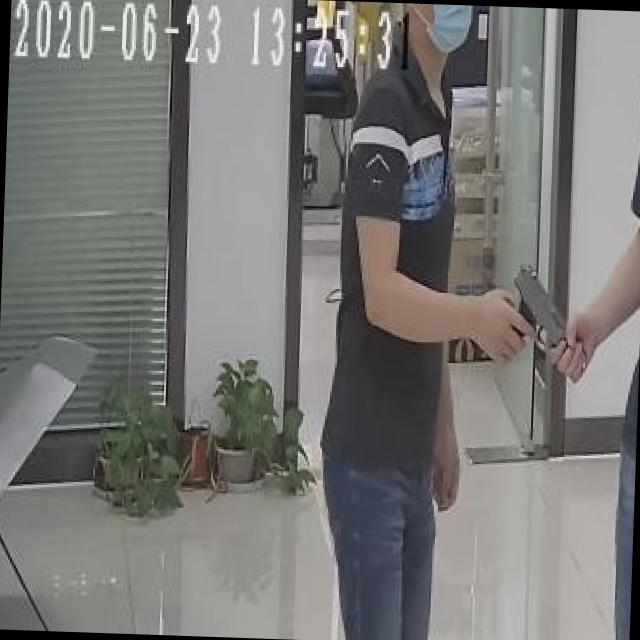Guns: (502, 249, 580, 374)
